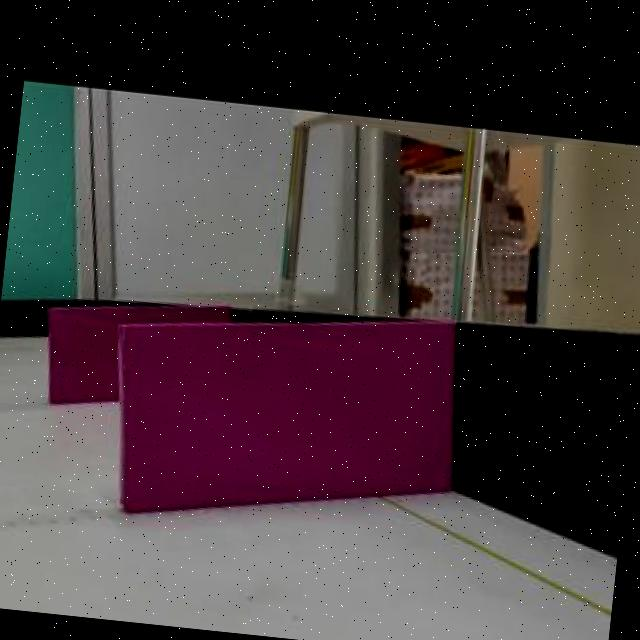xparking: (122, 323, 453, 512), (49, 307, 118, 403)
